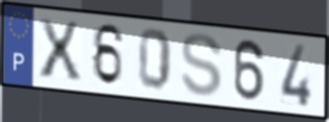0: (136, 26, 174, 95)
4: (278, 42, 314, 110)
6: (90, 22, 126, 89), (232, 37, 267, 104)
S: (178, 31, 225, 100)
X: (35, 16, 84, 83)
